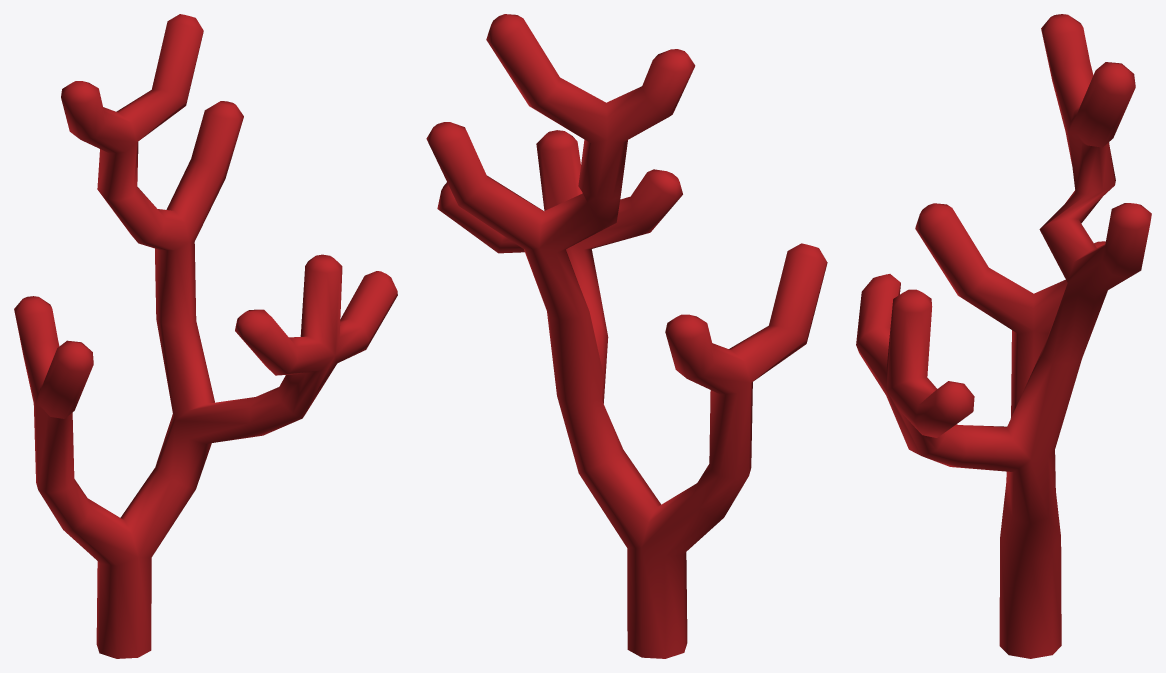
File: Sea_plant_1_4.fbx
The picture shows the model from 3 angles, left to right: view 1: azimuth 30°, elevation 25°; view 2: azimuth 150°, elevation 25°; view 3: azimuth 270°, elevation 25°; orthographic projection. The views are drawn at different scales.
Visible parts, largest first — view 1: Sea_plant_1_4; view 2: Sea_plant_1_4; view 3: Sea_plant_1_4.
Part boxes in pixels (bbox=[...]): Sea_plant_1_4: bbox=[14, 14, 397, 658]; Sea_plant_1_4: bbox=[426, 14, 827, 658]; Sea_plant_1_4: bbox=[856, 14, 1151, 658].
Bounding box in the file's own units: 0.8557 × 1.37 × 0.5814.
